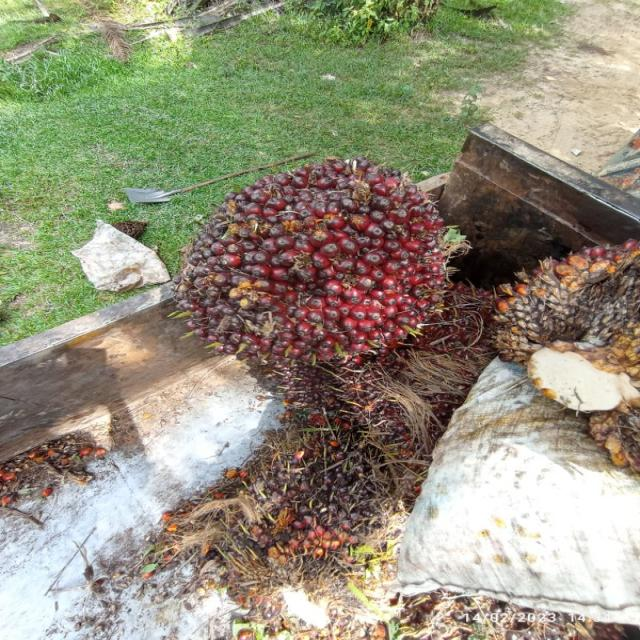fraksi 1: (156, 109, 471, 403)
